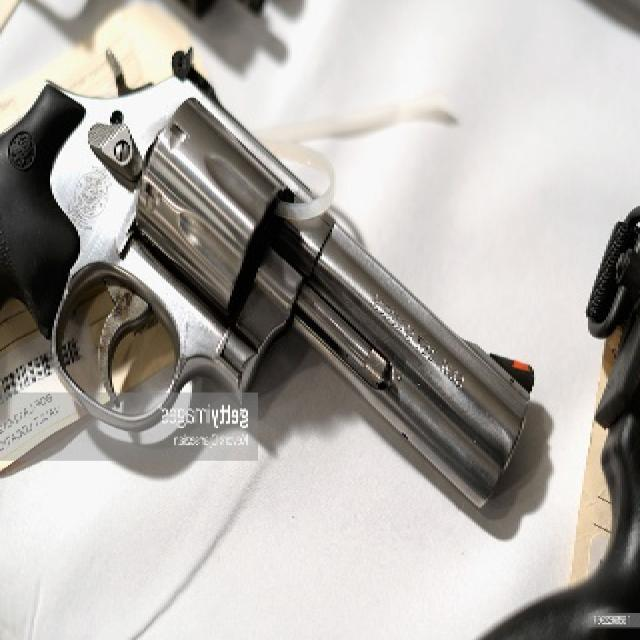handgun: (3, 40, 553, 512)
